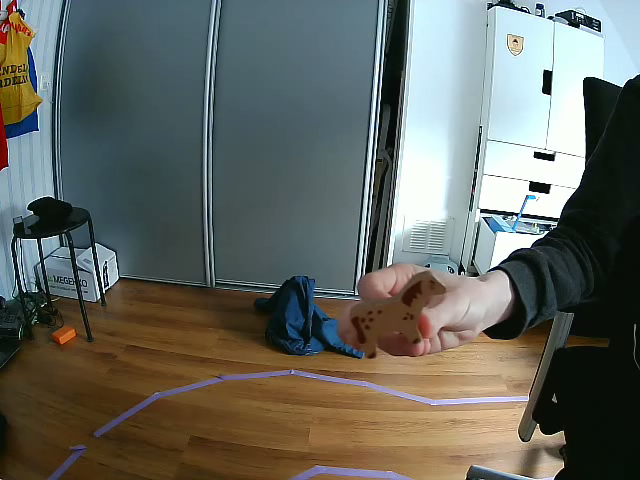paard: (353, 272, 443, 359)
